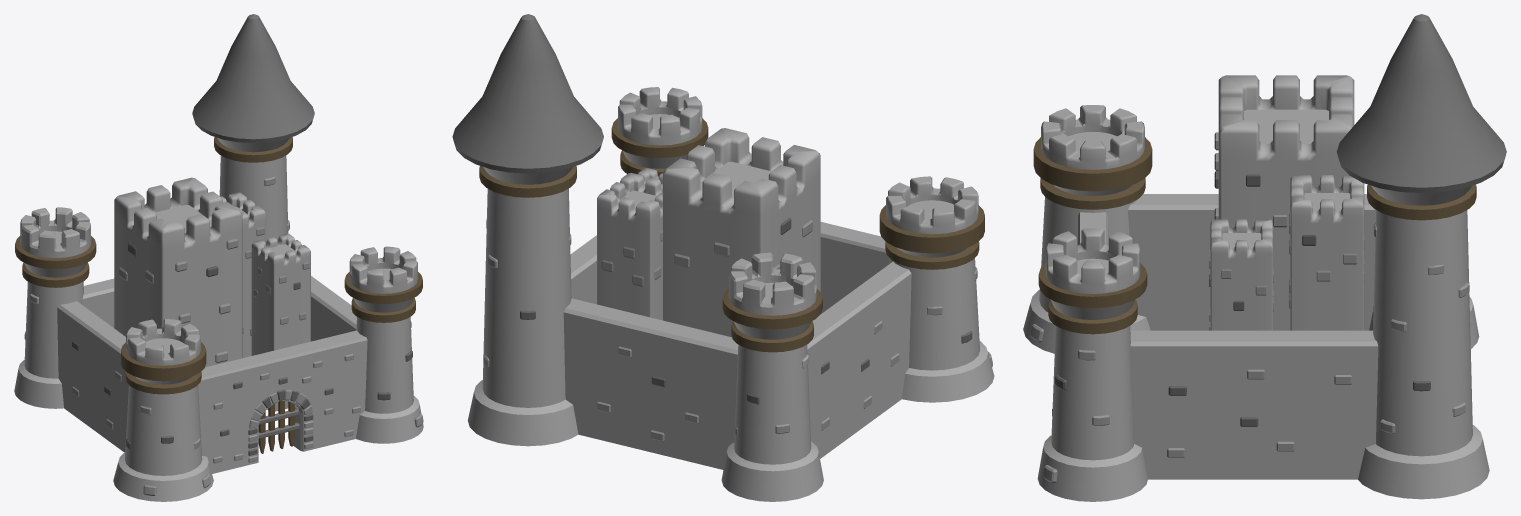
The model's file is Castle.fbx.
3 renders of one model, left to right at view 1: azimuth 30°, elevation 25°; view 2: azimuth 150°, elevation 25°; view 3: azimuth 270°, elevation 25°, orthographic. The views are drawn at different scales.
Visible parts, largest first — view 1: Castle; view 2: Castle; view 3: Castle.
Boxes of the visible parts, x1,y1,x2,y2 form: Castle: (14,14,423,501); Castle: (452,14,994,501); Castle: (1023,14,1506,501).
Bounding box in the file's own units: 14.57 × 15.03 × 14.41.
